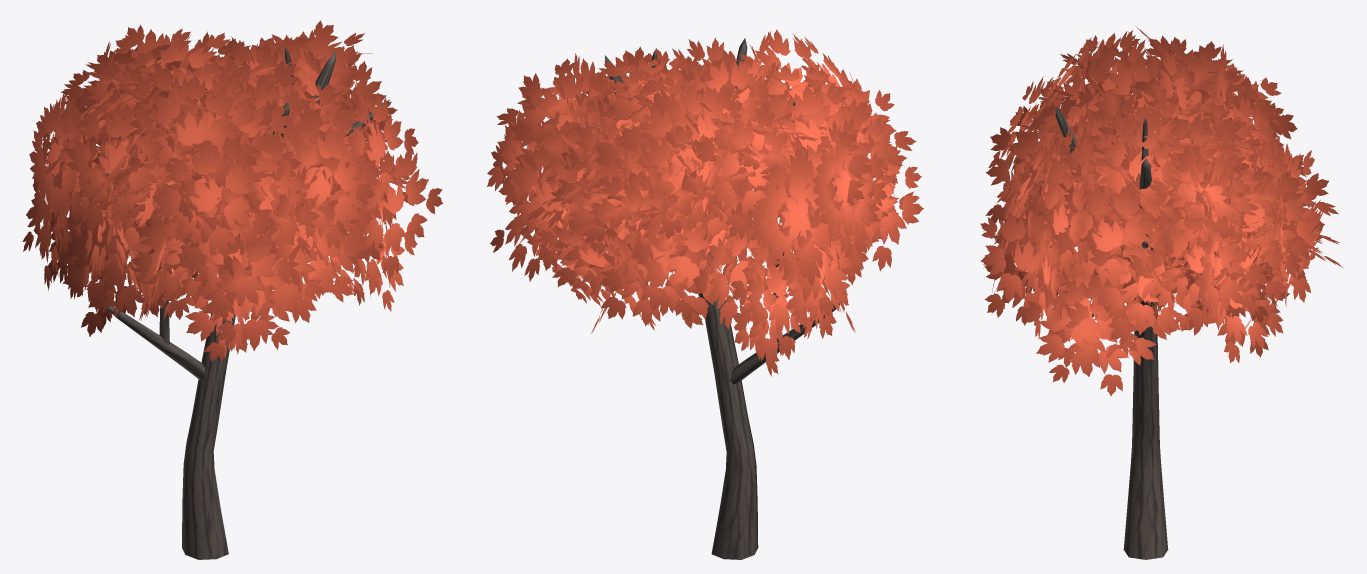
Rendered from maple_tree_4.gltf.
3 renders of one model, left to right at view 1: azimuth 30°, elevation 25°; view 2: azimuth 150°, elevation 25°; view 3: azimuth 270°, elevation 25°, orthographic. The views are drawn at different scales.
Visible parts, largest first — view 1: MapleTree_4; view 2: MapleTree_4; view 3: MapleTree_4.
Boxes of the visible parts, box(x1,y1,x2,y2) form: MapleTree_4: box(22, 20, 442, 559); MapleTree_4: box(487, 29, 923, 559); MapleTree_4: box(980, 27, 1342, 559).
Size of the model in its own units: 2.77 by 3.59 by 2.43.
Materials: 2 (2 with a texture image).
